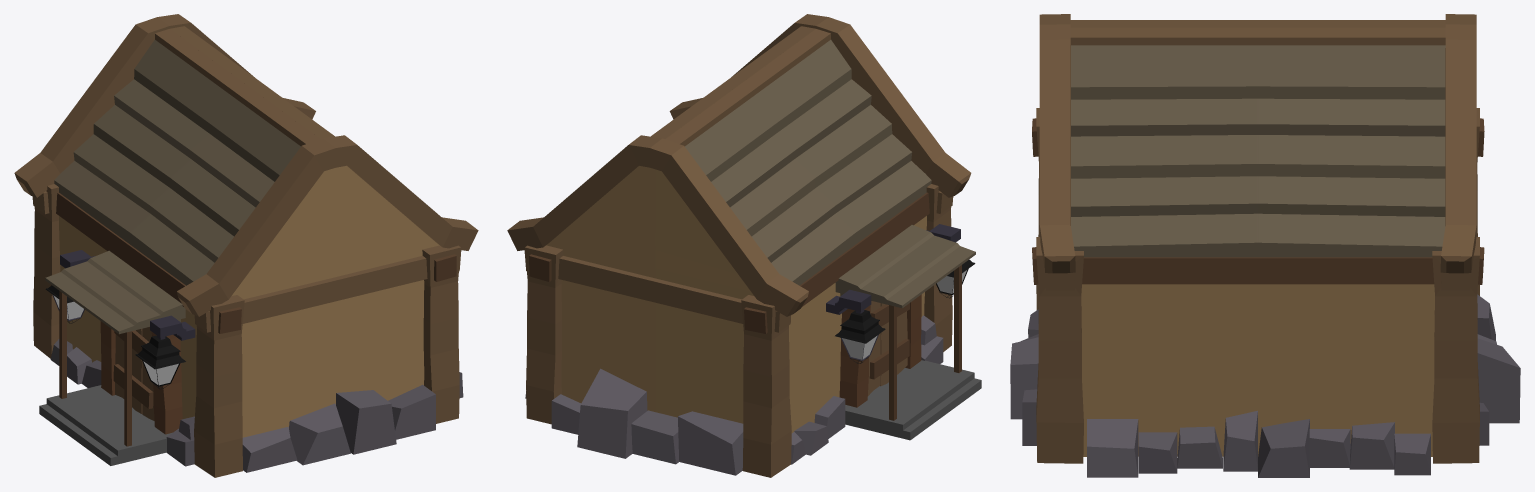
File: casa1.0.fbx
The picture shows the model from 3 angles, left to right: view 1: azimuth 30°, elevation 25°; view 2: azimuth 150°, elevation 25°; view 3: azimuth 270°, elevation 25°; orthographic projection. The views are drawn at different scales.
Visible parts, largest first — view 1: casa, porta, pedras.010, madeira porta, porta.007, negocinho feio.012, negocinho feio.010; view 2: casa, porta, pedras.010, madeira porta, porta.007, negocinho feio.017, negocinho feio.015; view 3: casa, pedras.010.
Part boxes in pixels (x1,y1,x2,y2): casa: (14, 14, 478, 477); porta: (39, 250, 185, 465); pedras.010: (50, 339, 463, 472); madeira porta: (100, 321, 182, 434); porta.007: (113, 327, 154, 420); negocinho feio.012: (135, 335, 185, 369); negocinho feio.010: (150, 315, 195, 340); casa: (507, 14, 971, 477); porta: (835, 225, 981, 440); pedras.010: (525, 315, 943, 475); madeira porta: (839, 294, 921, 407); porta.007: (868, 301, 909, 395); negocinho feio.017: (835, 310, 885, 343); negocinho feio.015: (826, 289, 871, 314); casa: (1032, 14, 1484, 463); pedras.010: (1010, 294, 1520, 477).
Size of the model in its own units: 3948 by 3371 by 4247.
